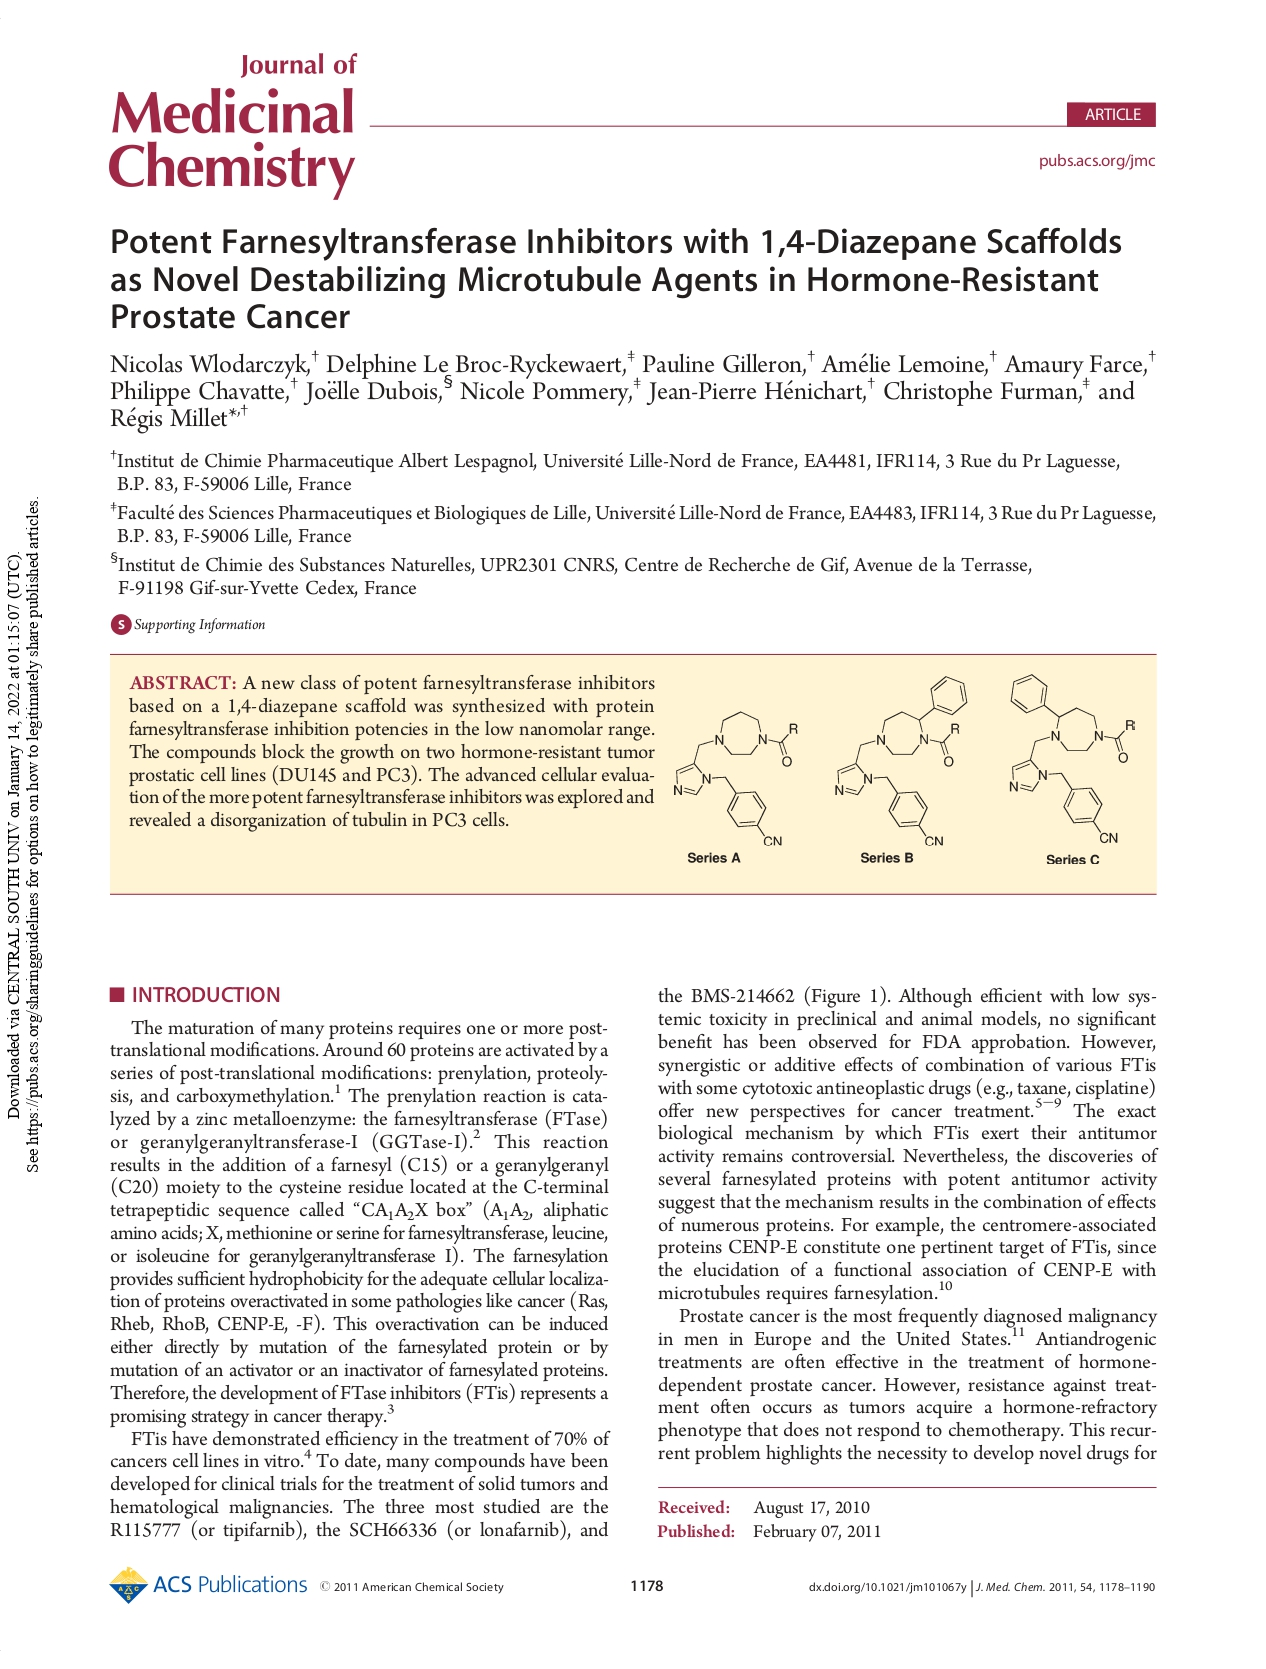exist_molecular: (832, 676, 969, 848), (1005, 670, 1137, 846), (668, 706, 799, 851)
